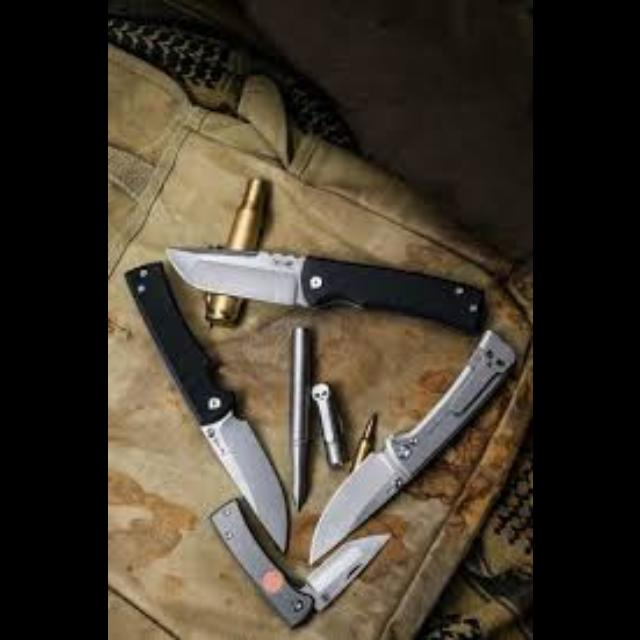knife: (306, 328, 516, 566), (122, 258, 288, 554), (164, 242, 486, 338), (208, 496, 390, 628)
